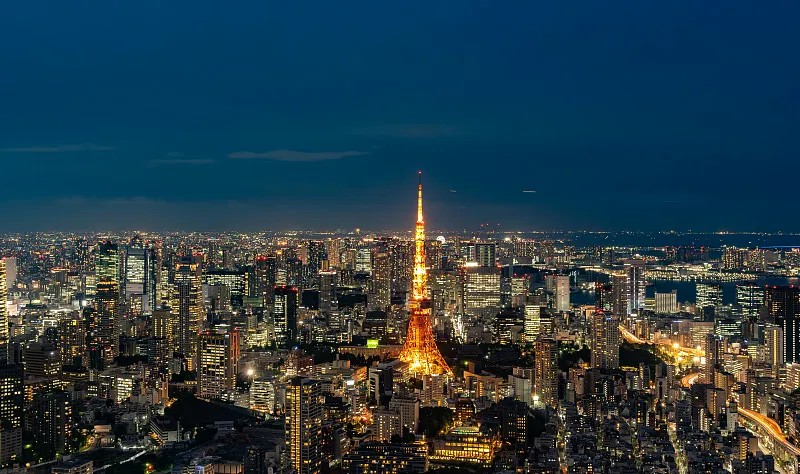Tokyo: (393, 166, 458, 383)
